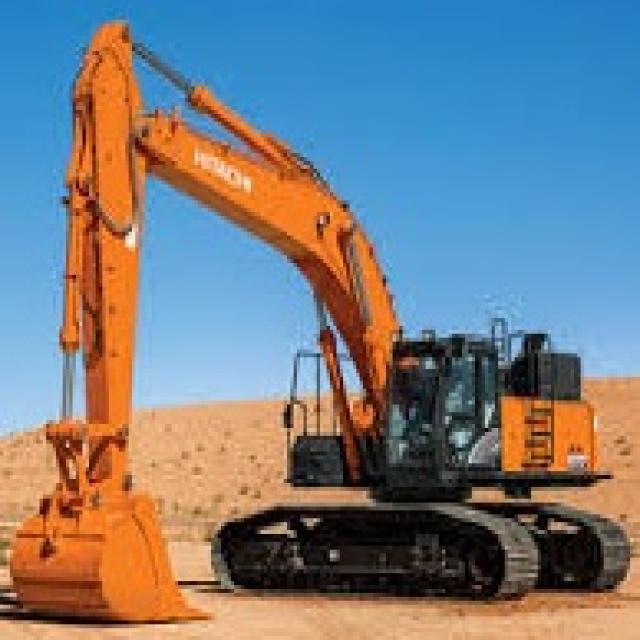excavator: (207, 287, 618, 610)
